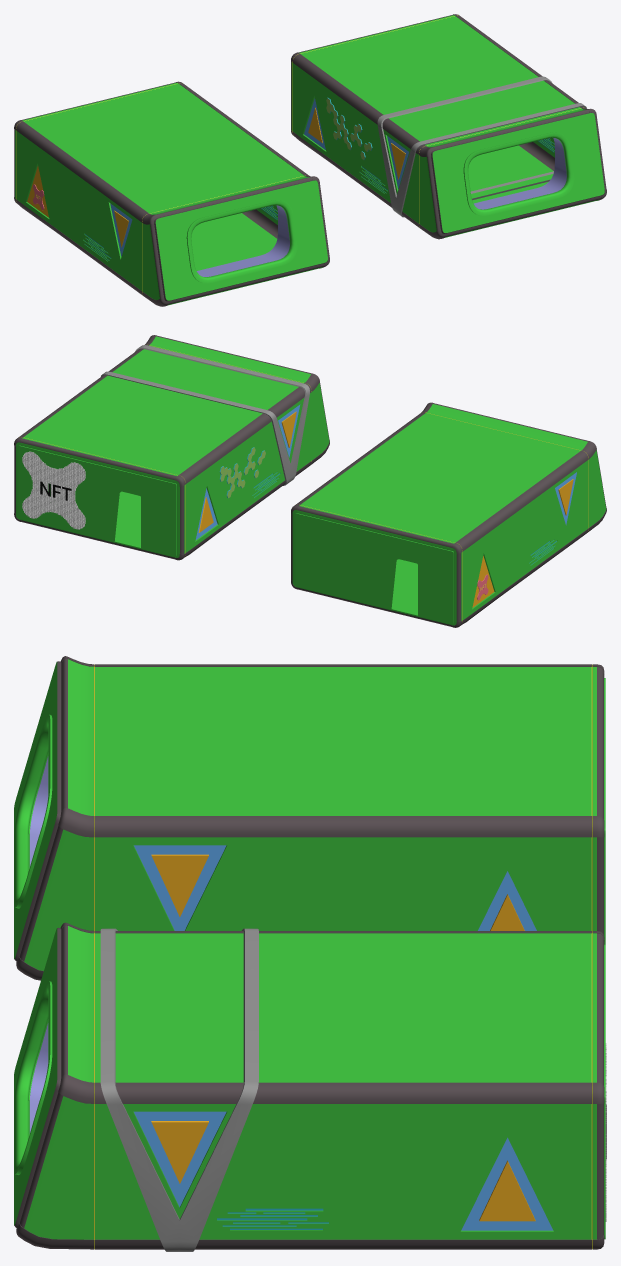
The model's file is Wall_Shell.FBX.
3 renders of one model, top to bottom at view 1: azimuth 30°, elevation 25°; view 2: azimuth 150°, elevation 25°; view 3: azimuth 270°, elevation 25°, orthographic. The views are drawn at different scales.
Parts seen in each view (by area): view 1: Wall_Shell002, Wall_Shell, DaoJux, WuBian001; view 2: Wall_Shell002, Wall_Shell, Logo, DaoJux, WuBian001; view 3: Wall_Shell, Wall_Shell002, DaoJux.
Boxes of the visible parts, box(x1,y1,x2,y2) form: Wall_Shell002: box(14, 81, 329, 306); Wall_Shell: box(291, 14, 606, 239); DaoJux: box(377, 76, 586, 217); WuBian001: box(326, 97, 372, 159); Wall_Shell002: box(291, 402, 606, 627); Wall_Shell: box(14, 335, 329, 560); Logo: box(22, 451, 85, 529); DaoJux: box(101, 345, 309, 485); WuBian001: box(219, 447, 265, 498); Wall_Shell: box(14, 922, 605, 1249); Wall_Shell002: box(14, 656, 605, 980); DaoJux: box(100, 928, 258, 1251).
Size of the model in its own units: 21034 by 3974 by 12223.
